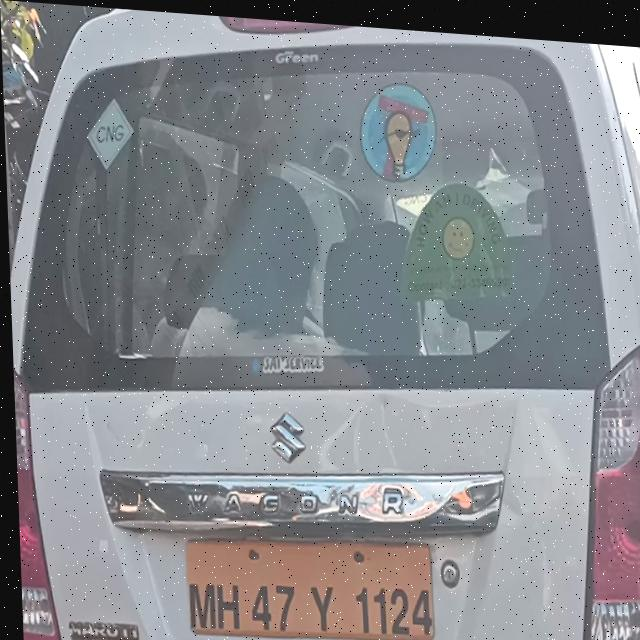plate: (179, 521, 432, 640)
